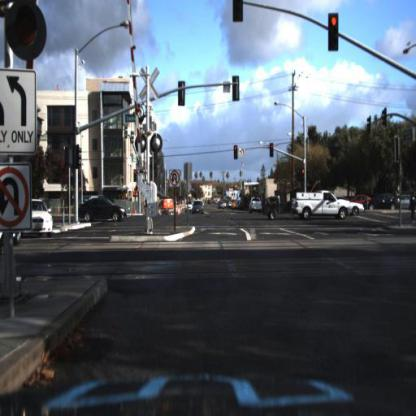car: (261, 190, 354, 228), (70, 195, 133, 225), (27, 198, 56, 240), (363, 192, 406, 215), (32, 197, 54, 237), (249, 192, 268, 217), (192, 198, 206, 219), (352, 201, 368, 218), (184, 197, 193, 217)
pedestrian: (410, 191, 416, 225)
trafficLight: (7, 1, 46, 60), (233, 2, 244, 23)
trafficLight-Red: (328, 12, 340, 54), (269, 138, 277, 161), (233, 142, 239, 163), (301, 164, 307, 185)
truck: (265, 187, 357, 225)
